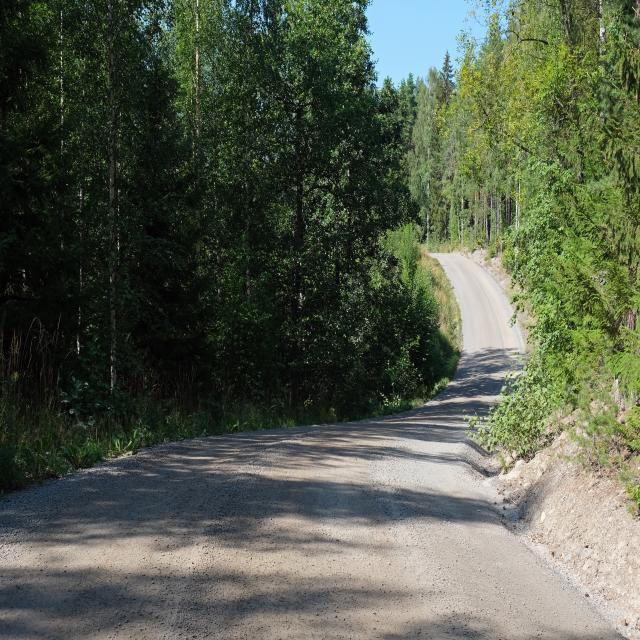Clean road: (13, 229, 638, 639)
